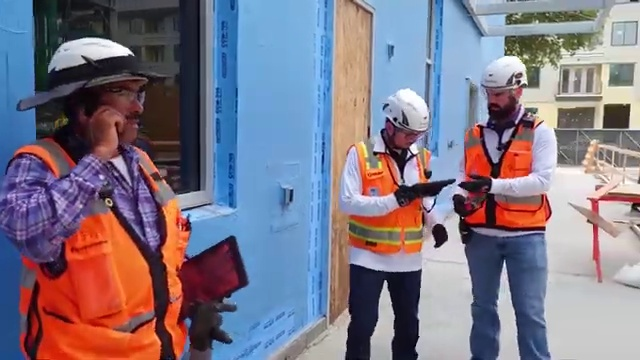helmet: (36, 31, 163, 94), (380, 80, 438, 132), (476, 52, 540, 91)
jacket: (1, 133, 191, 360), (456, 113, 561, 233), (345, 138, 436, 267)
